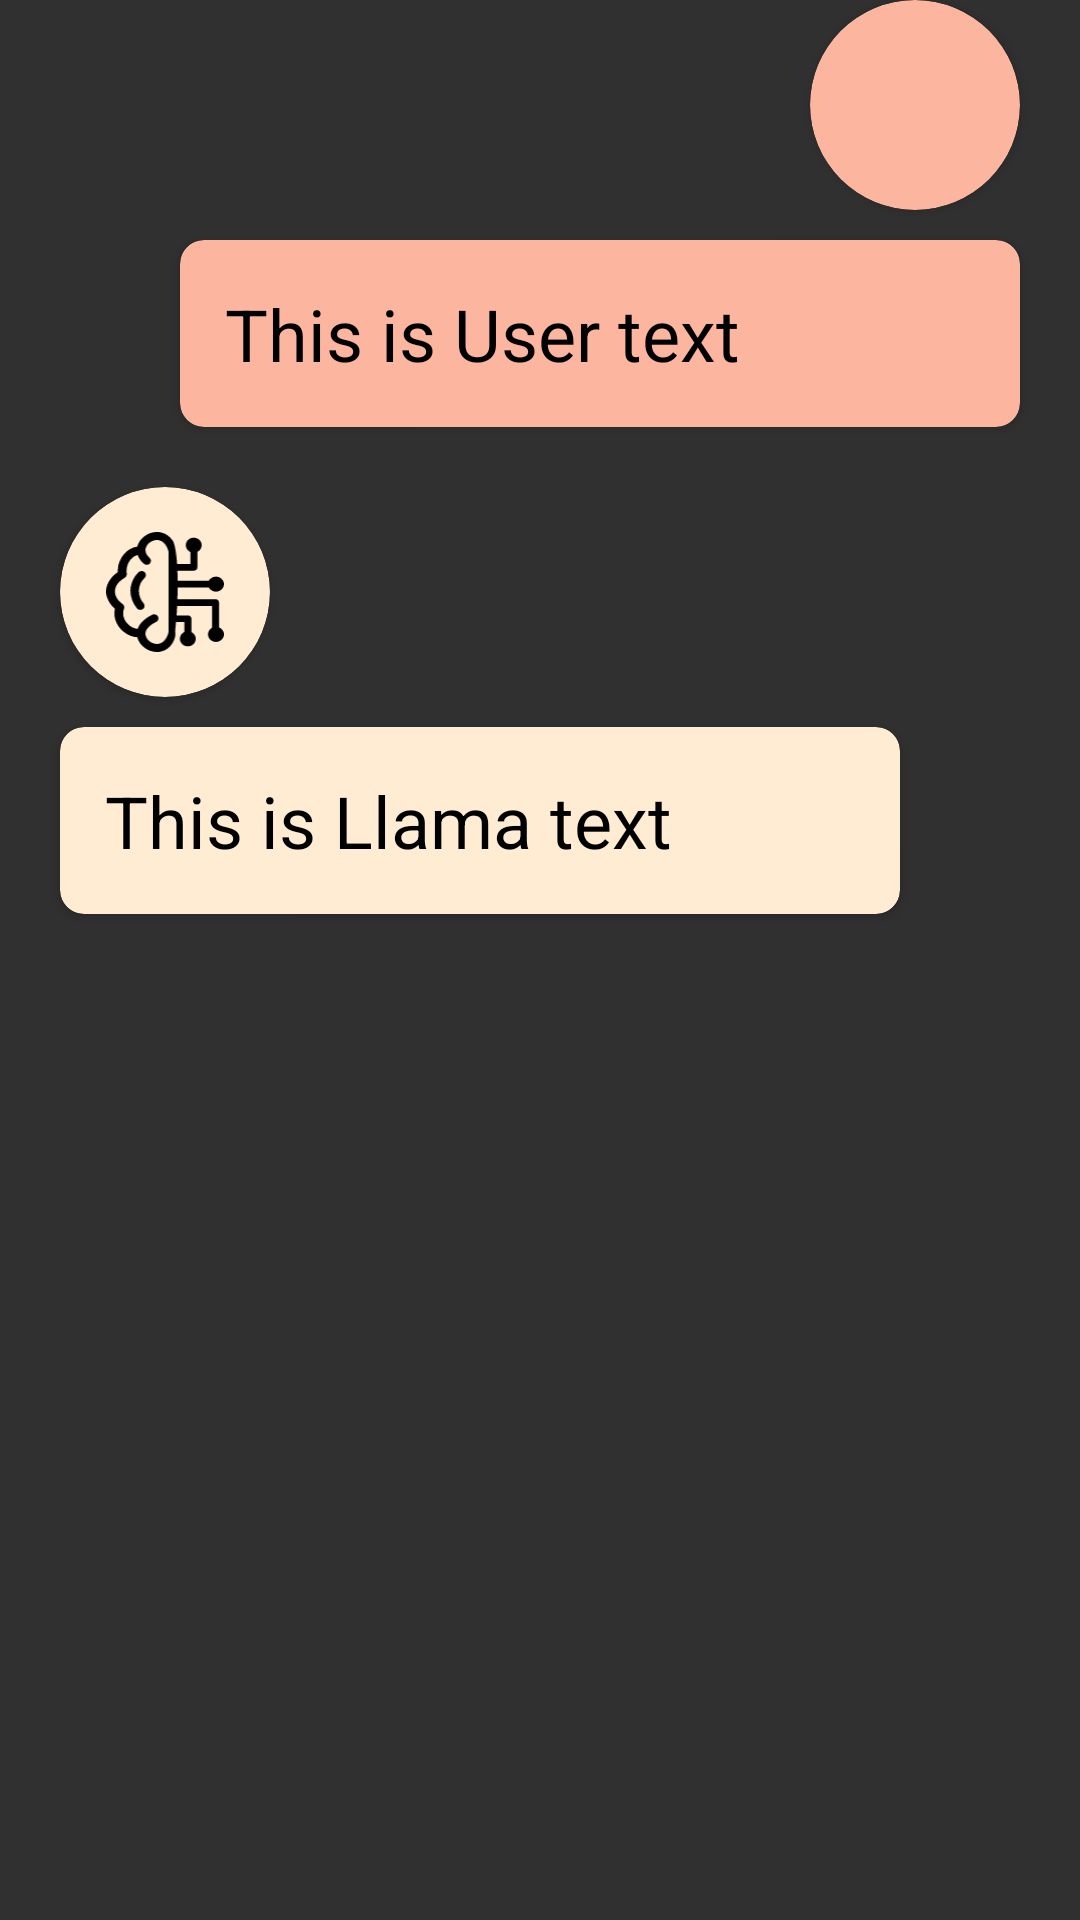

Where to tap for icons on this 1080px x 1920px app screen, as (x=x, y=y):
learning machine ai: (x=165, y=592)
